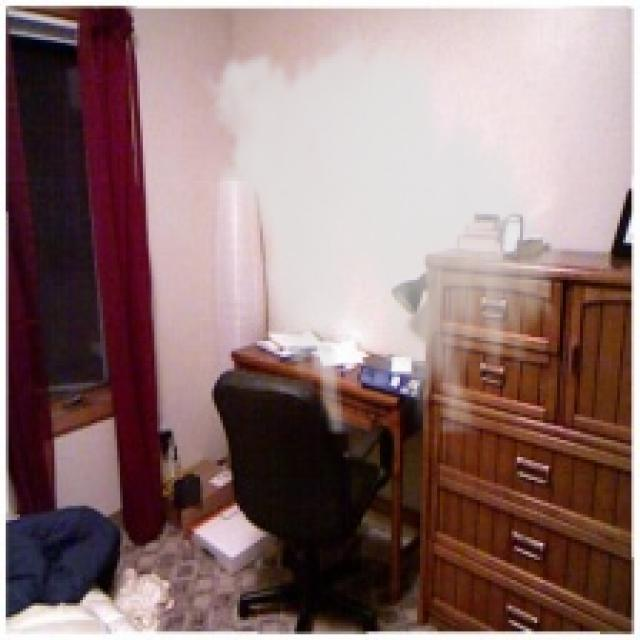smoke: (195, 20, 574, 434)
